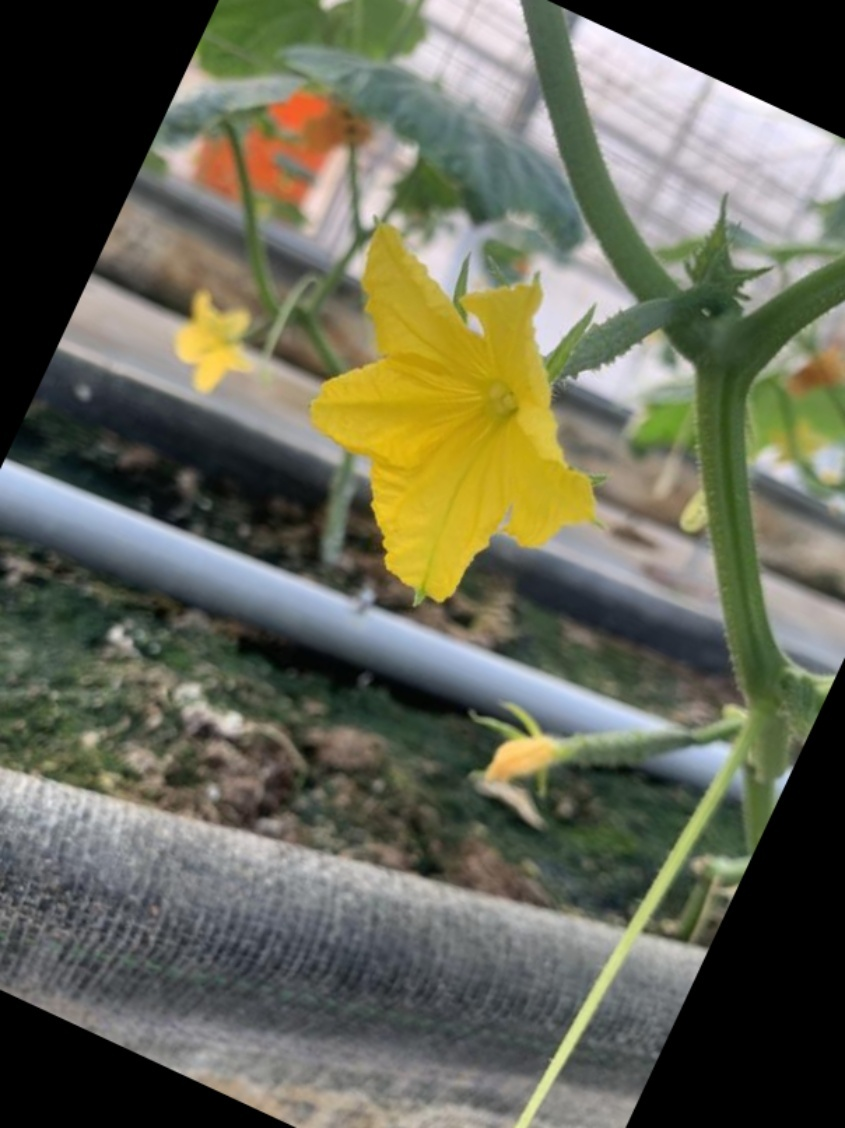flowering: (245, 226, 709, 612)
